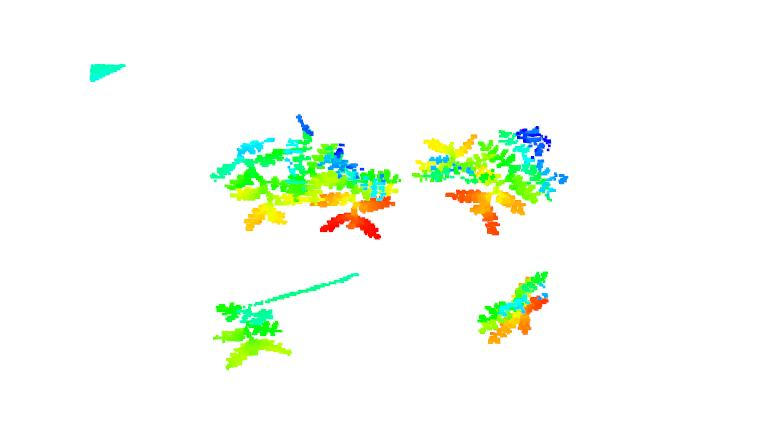chickpea: (441, 136, 567, 239), (304, 137, 403, 243), (206, 138, 298, 233), (465, 270, 554, 345), (214, 301, 294, 368), (419, 131, 491, 196)
